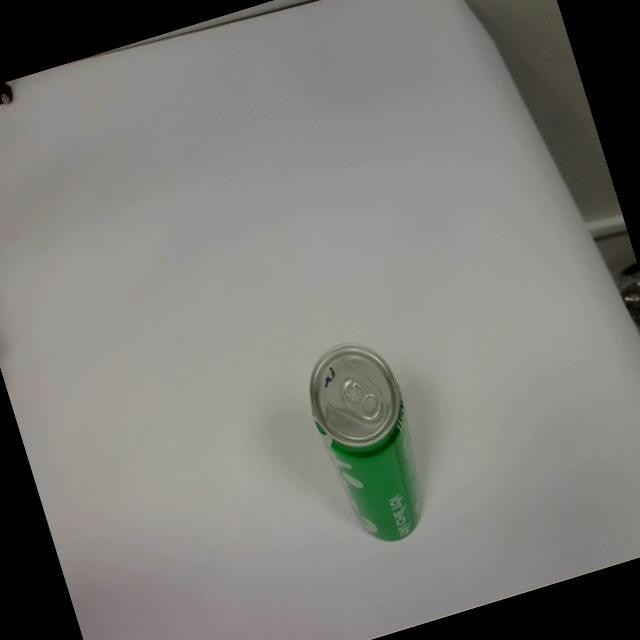debris: (293, 330, 443, 556)
